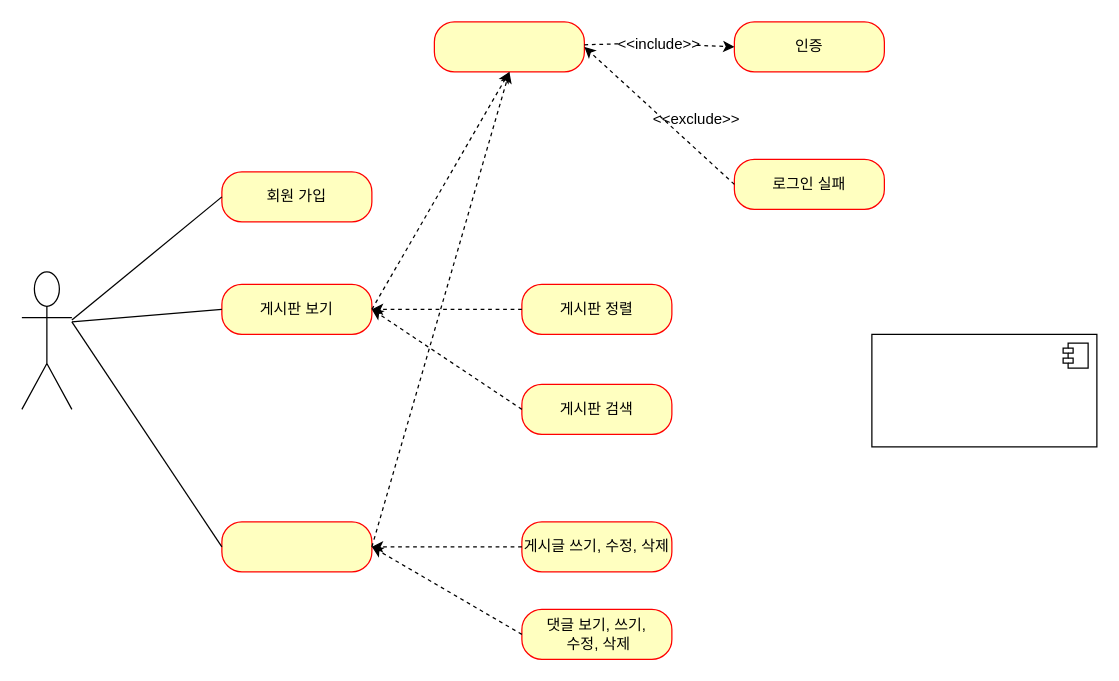
Some shapes in this 1119 by 681 pixel diagram are drawn without their labels. Here are the shapes that lost their labels. From the top down, the centre of each, then its label:
(x=508, y=46): 회원 로그인
(x=46, y=340): 이용자
(x=984, y=390): «Annotation» Component
(x=296, y=546): 게시글 보기
